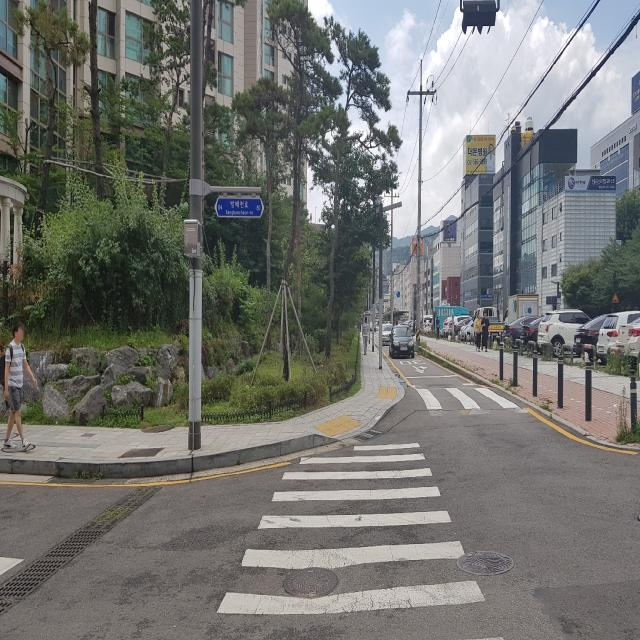횡단보도: (217, 442, 508, 640), (406, 372, 522, 415)
